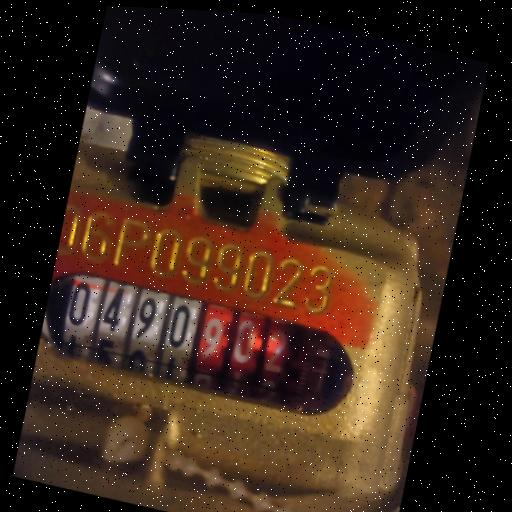0: (54, 270, 106, 362), (217, 308, 268, 401), (155, 294, 204, 383)
2: (250, 316, 302, 407)
4: (89, 278, 137, 369)
7: (292, 326, 345, 417)
9: (184, 300, 235, 392), (121, 286, 172, 377)
border_water_meter_number: (35, 264, 363, 427)
